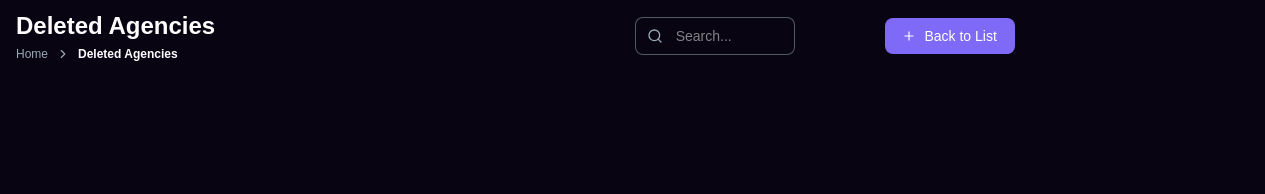
Test: AgencyTrashListTemplate › filters agencies by search
Type "Another" into the field with placeholder "Search..." at x=715, y=36, box [635, 17, 795, 55]
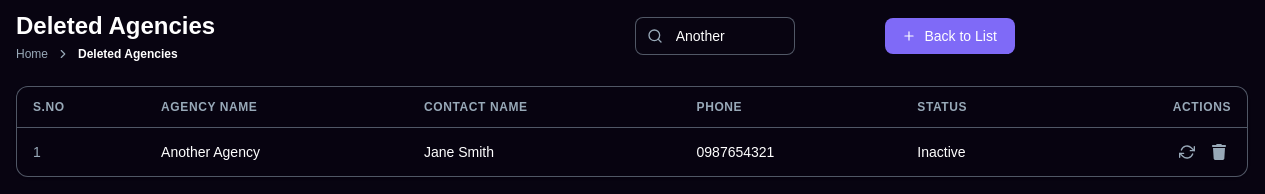
Expected: the text "Another Agency" is shown, [145, 128, 408, 176]
